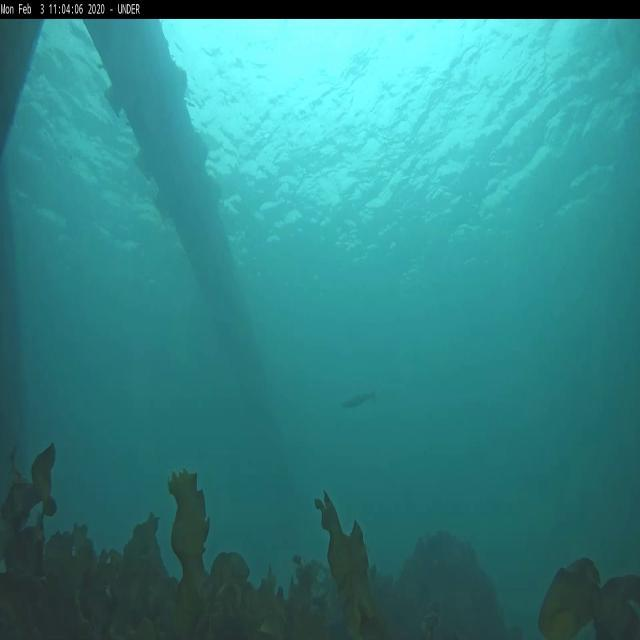fish: (342, 390, 377, 410)
